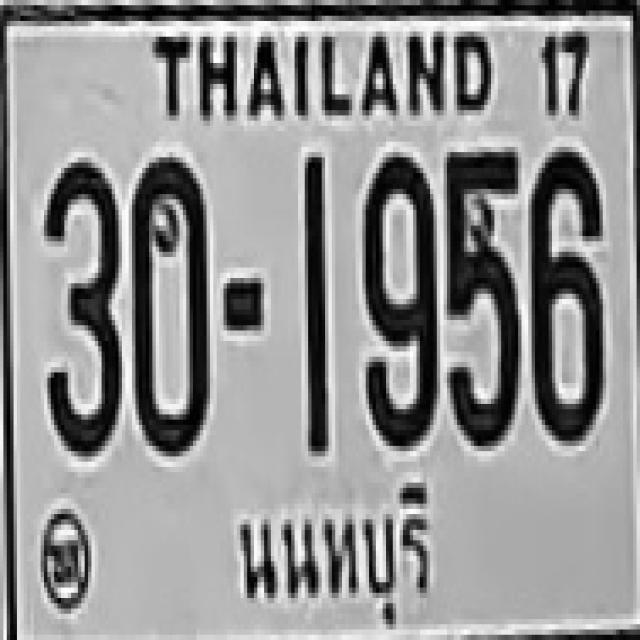0: (130, 152, 208, 451)
1: (301, 152, 325, 446)
3: (42, 160, 120, 454)
5: (444, 147, 518, 441)
6: (528, 147, 600, 441)
9: (362, 152, 433, 446)
NBI: (223, 467, 437, 640)
